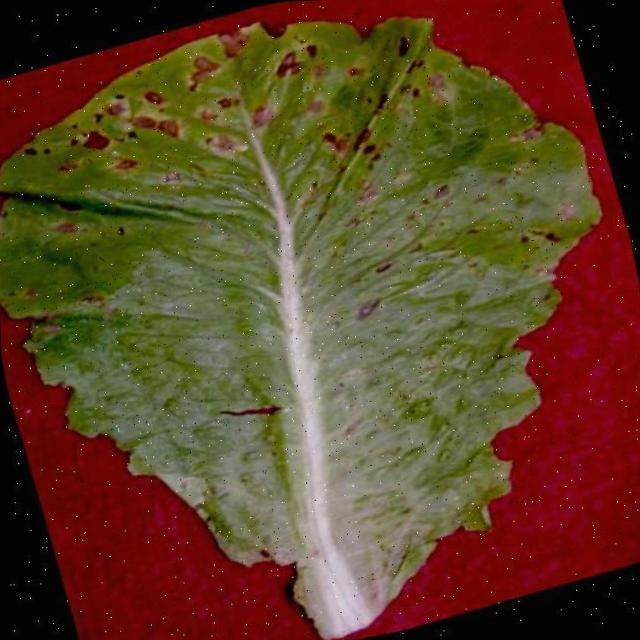Septoria_Blight_on_lettuce: (51, 39, 502, 402)
